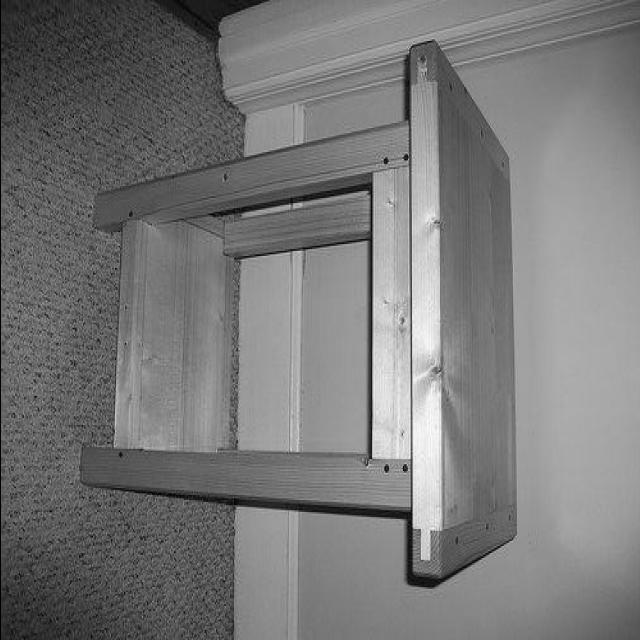table: (80, 40, 518, 582)
